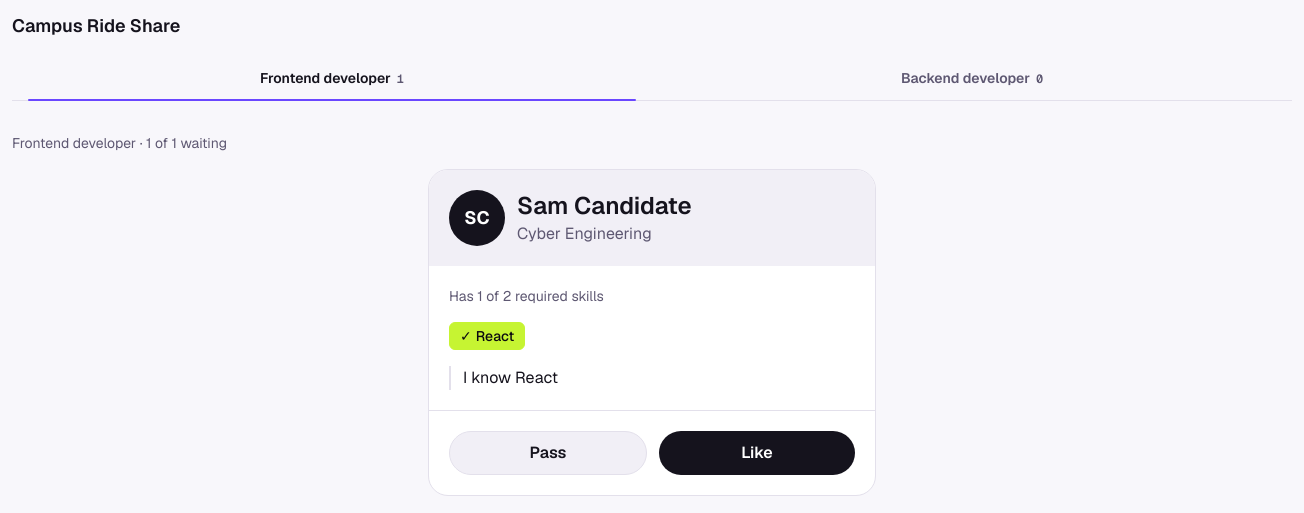
a like that fills the last role says the team is locked
The width and height of the screenshot is (1304, 513).
Click the button with aria-label "Like Sam Candidate": click(757, 453) 659,431 -> 855,475
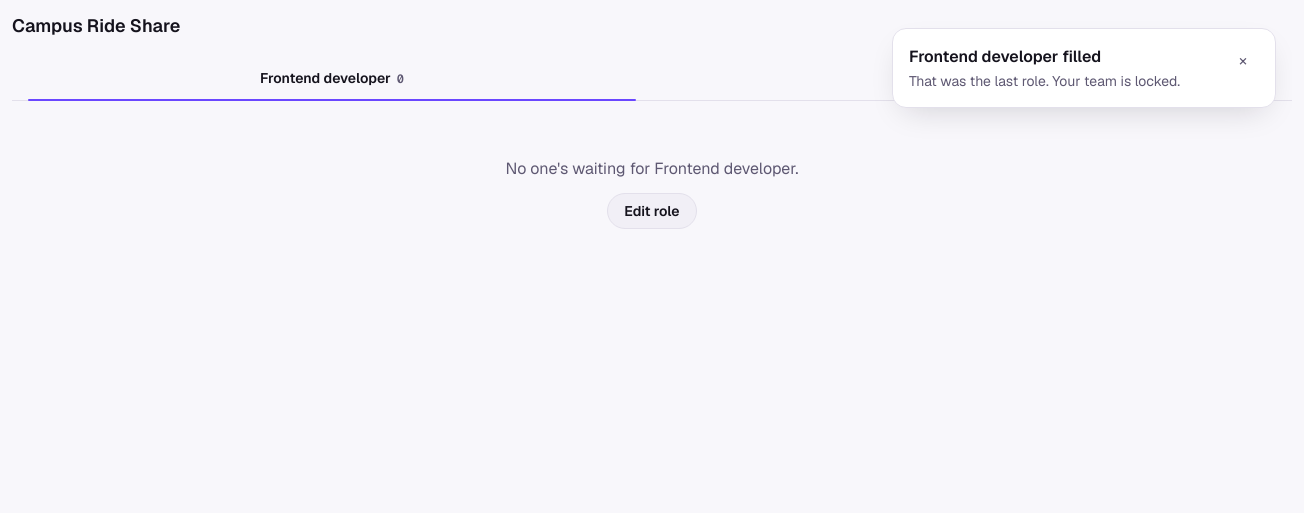
Expected: the text "That was the last role. Your team is locked." is shown, 909,71 -> 1215,91
